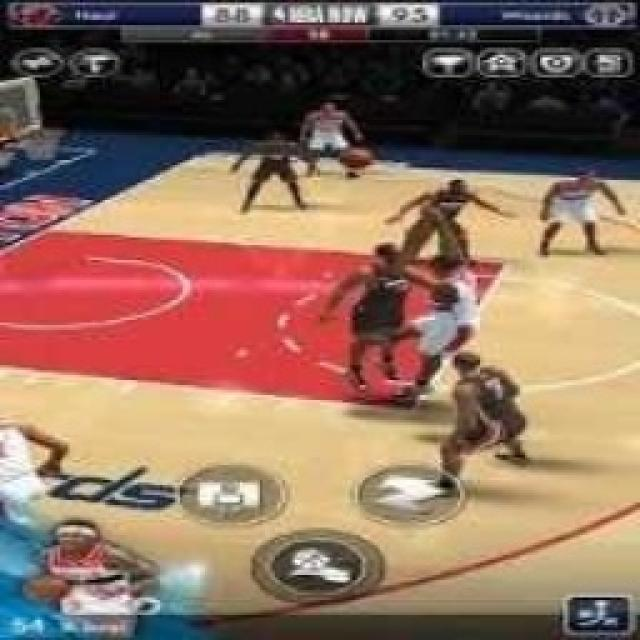rim: (342, 142, 372, 172)
